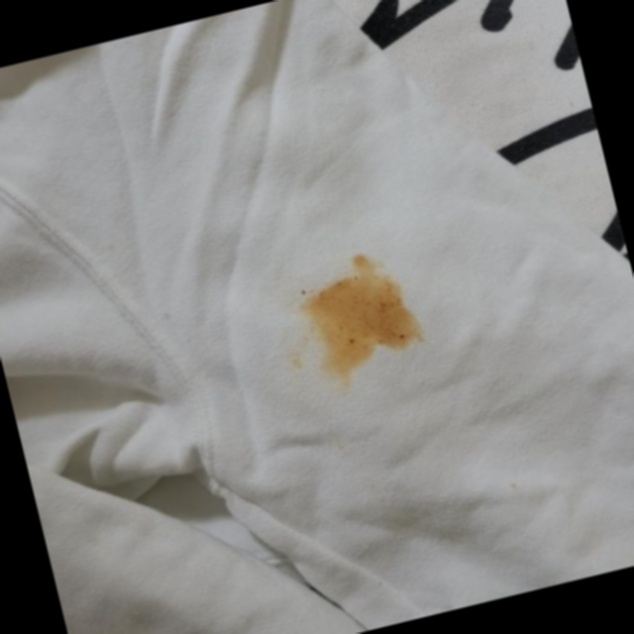kimchi: (256, 232, 436, 409)
